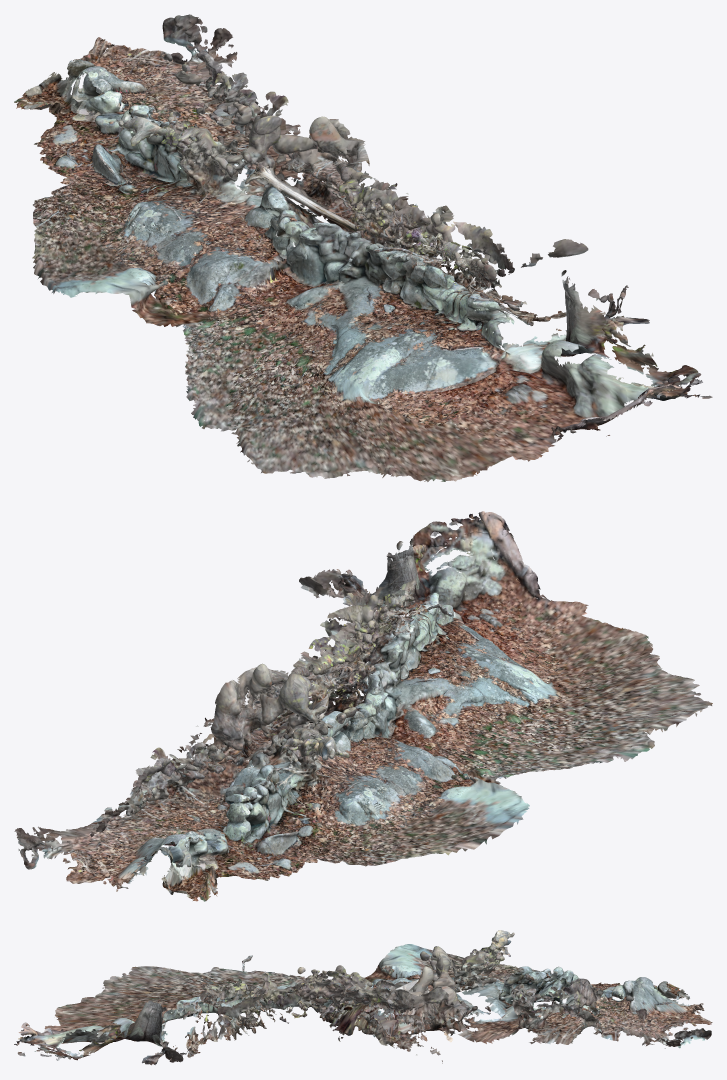
The model's file is abound_20261119-1453.glb.
3 renders of one model, top to bottom at view 1: azimuth 30°, elevation 25°; view 2: azimuth 150°, elevation 25°; view 3: azimuth 270°, elevation 25°, orthographic. The views are drawn at different scales.
Parts seen in each view (by area): view 1: Scene; view 2: Scene; view 3: Scene.
Boxes of the visible parts, bbox=[...] form: Scene: bbox=[14, 14, 712, 481]; Scene: bbox=[14, 511, 712, 901]; Scene: bbox=[14, 930, 712, 1065].
Size of the model in its own units: 7.9 by 2.69 by 17.47.
Materials: 2 (2 with a texture image).
